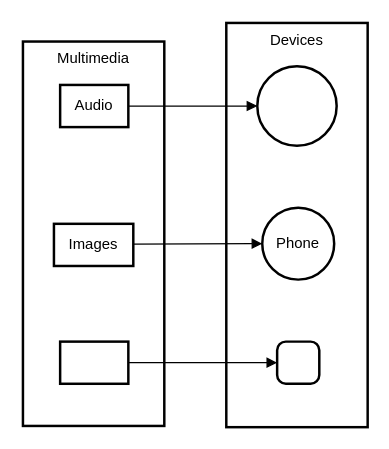
Some shapes in this 389 by 449 pixel diagram are drawn without their labels. The shapes that lost their labels are listed below. From the top down, each one's centre as x and y in pixels, then its label:
point (296, 105): Laptop
point (93, 362): Video
point (297, 362): TV
